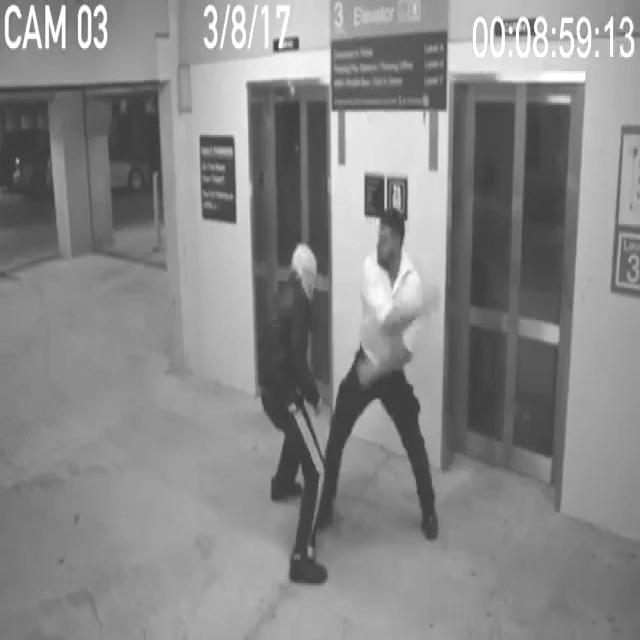fight: (260, 201, 442, 586)
